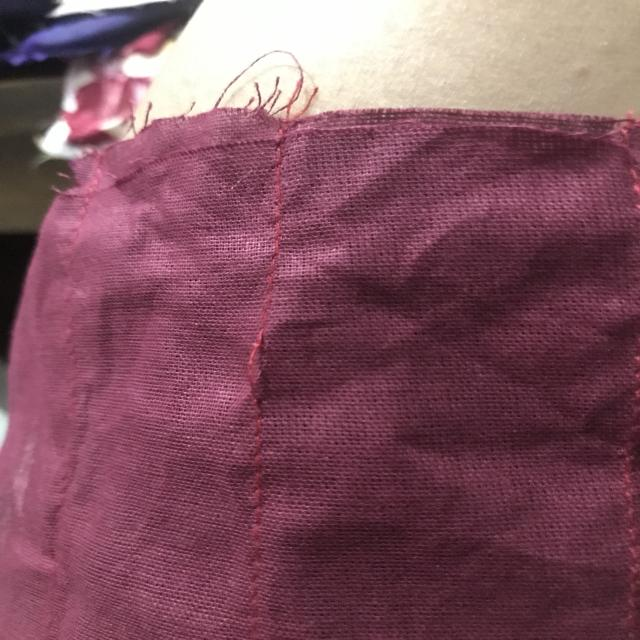skip: (225, 317, 296, 417)
